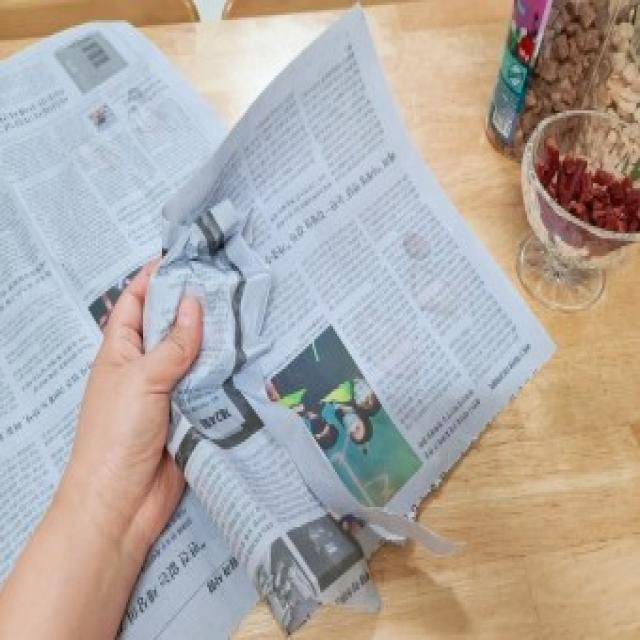Newspaper: (142, 0, 564, 640)
